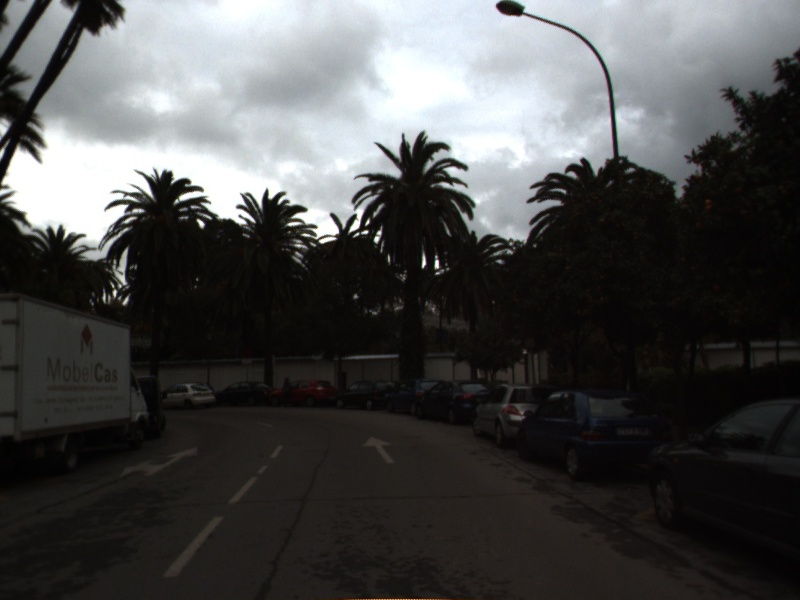STRAIGHT: (360, 434, 398, 465)
STRAIGHT_LEFT: (116, 443, 201, 481)
